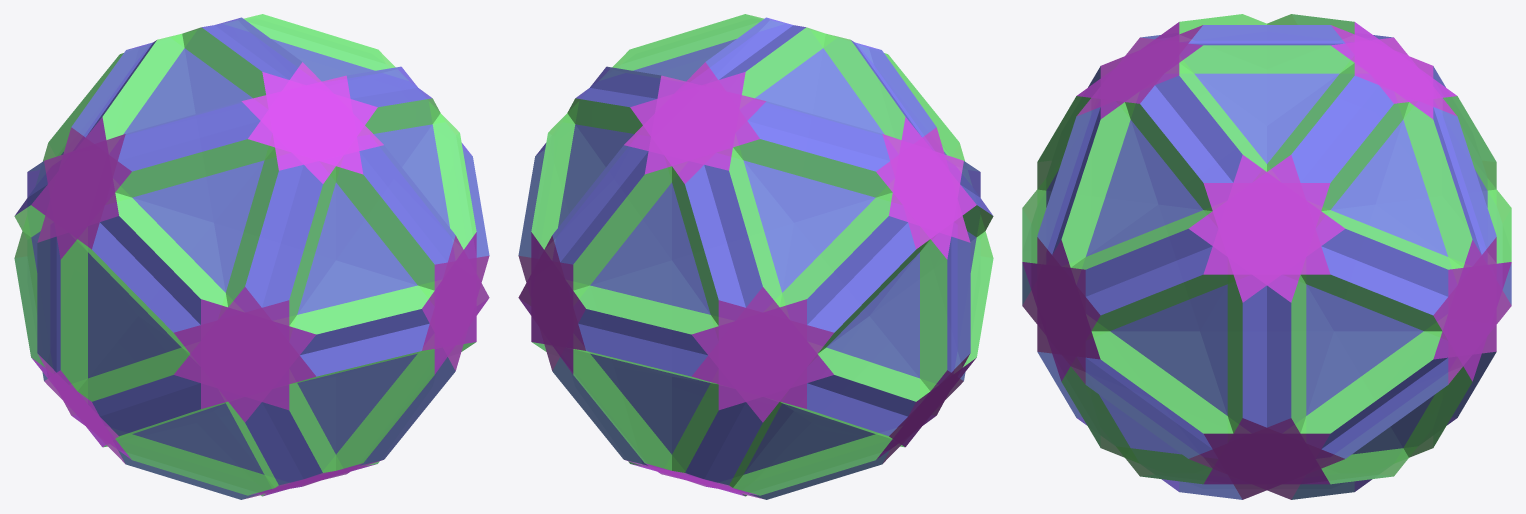
File: IcositruncatedDodecadodecahedron.obj
3 views of the same model, side by side, from view 1: azimuth 30°, elevation 25°; view 2: azimuth 150°, elevation 25°; view 3: azimuth 270°, elevation 25° (orthographic). The views are drawn at different scales.
Size of the model in its own units: 3.85 by 3.85 by 3.85.
